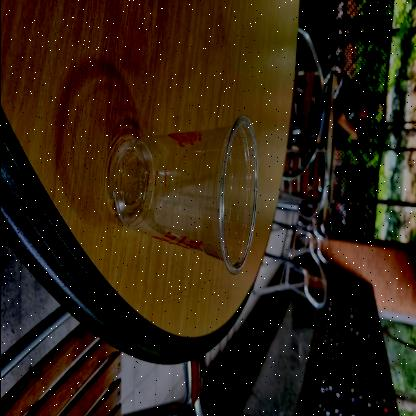Others: (104, 110, 262, 278)
